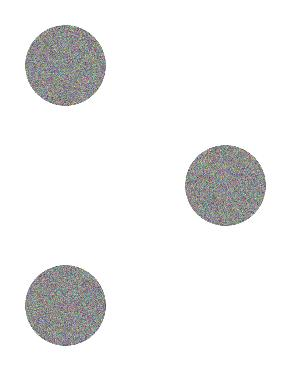O: (18, 18, 273, 352)
